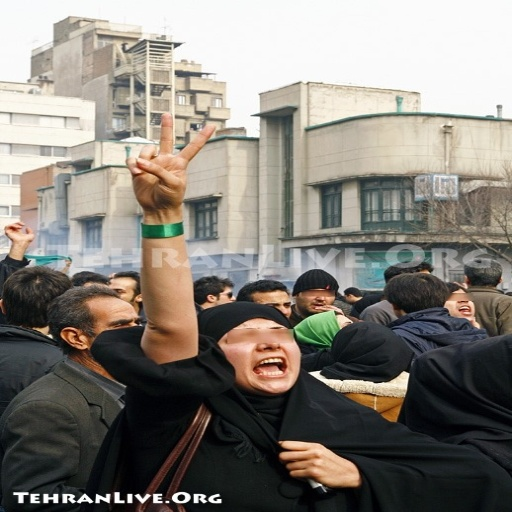hand: (123, 110, 216, 209), (274, 438, 361, 488), (2, 218, 34, 244), (312, 304, 341, 312)
